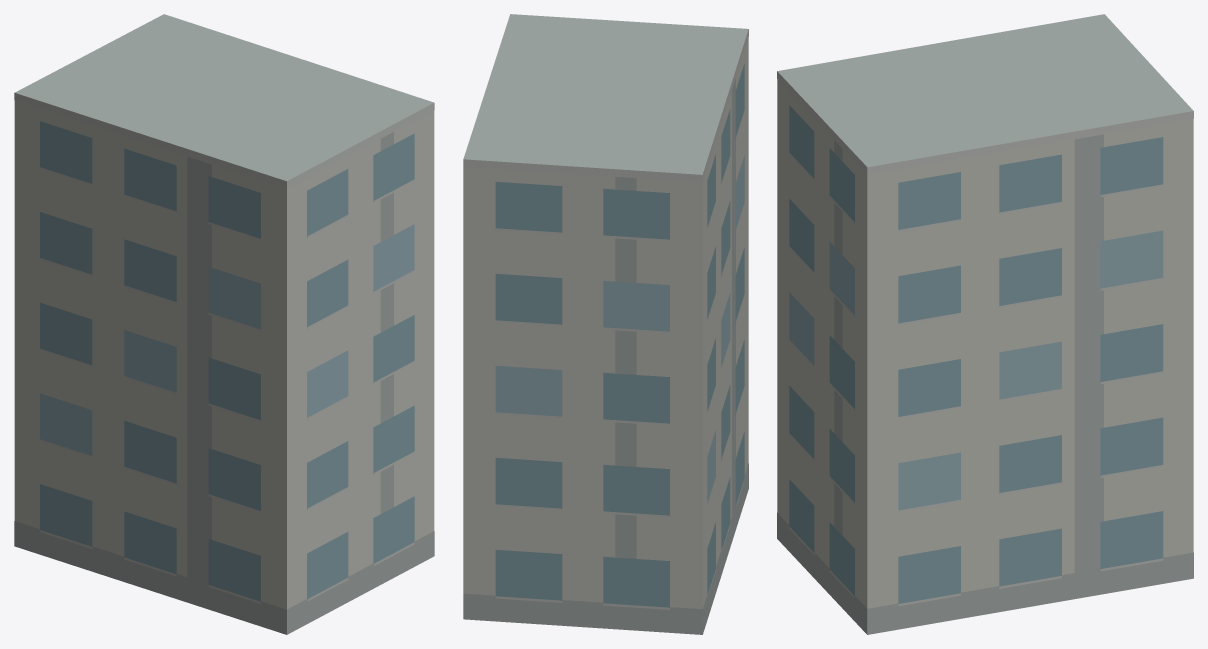
The model's file is survey-upis-32763367.glb.
The picture shows the model from 3 angles, left to right: view 1: azimuth 30°, elevation 25°; view 2: azimuth 150°, elevation 25°; view 3: azimuth 270°, elevation 25°; orthographic projection. The views are drawn at different scales.
Visible parts, largest first — view 1: survey-upis-32763367.tmp; view 2: survey-upis-32763367.tmp; view 3: survey-upis-32763367.tmp.
Boxes of the visible parts, x1,y1,x2,y2 form: survey-upis-32763367.tmp: (14,14,434,634); survey-upis-32763367.tmp: (463,14,748,634); survey-upis-32763367.tmp: (777,14,1193,634).
Size of the model in its own units: 10.24 by 14.55 by 11.76.
